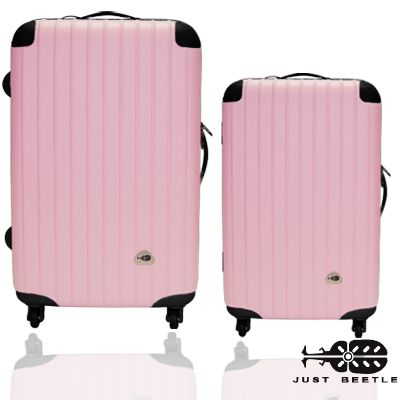suitcase: (4, 7, 211, 334), (217, 73, 388, 336)
